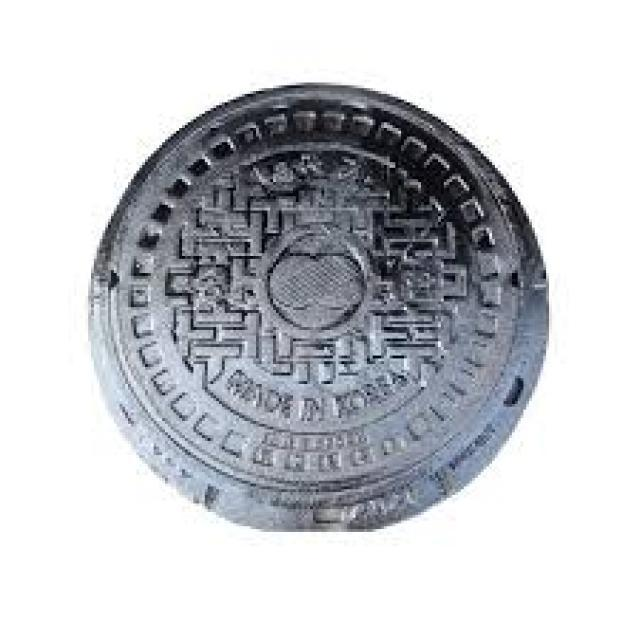manhole: (90, 84, 548, 529)
